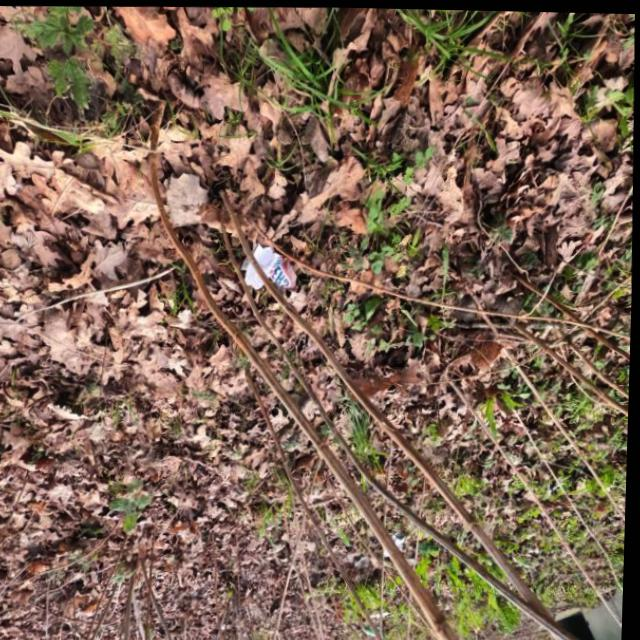Plastic: (234, 240, 302, 292)
